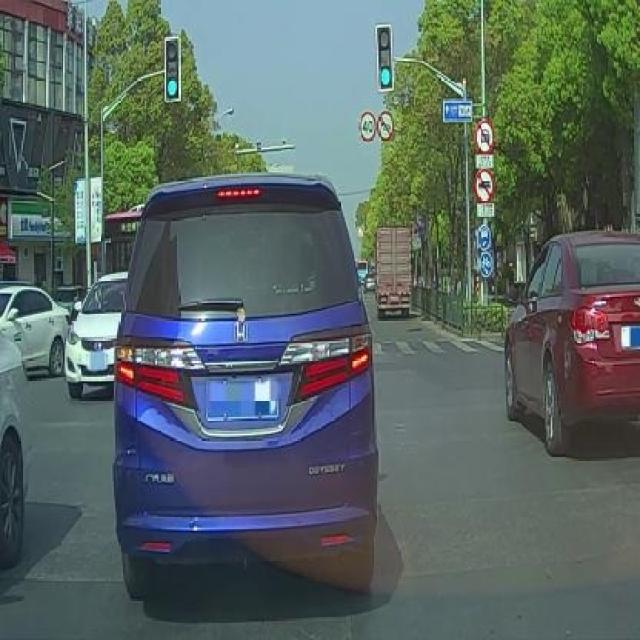forb_speed_over_40: (360, 110, 377, 144)
